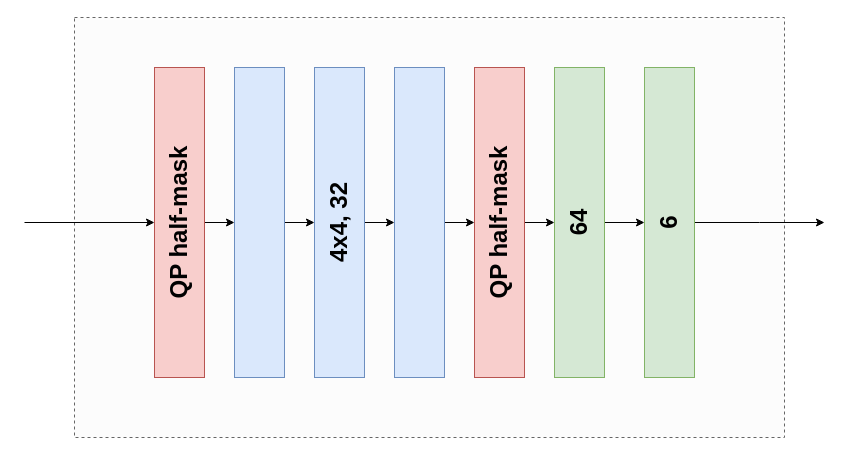
Image size: 850x455. Some labels were removed from this diagram. Here are the shapes that lost their labels. From the top down, the centre of each, then its label:
At point 259,222: "4x4, 16".
At point 419,222: "2x2, 128".
